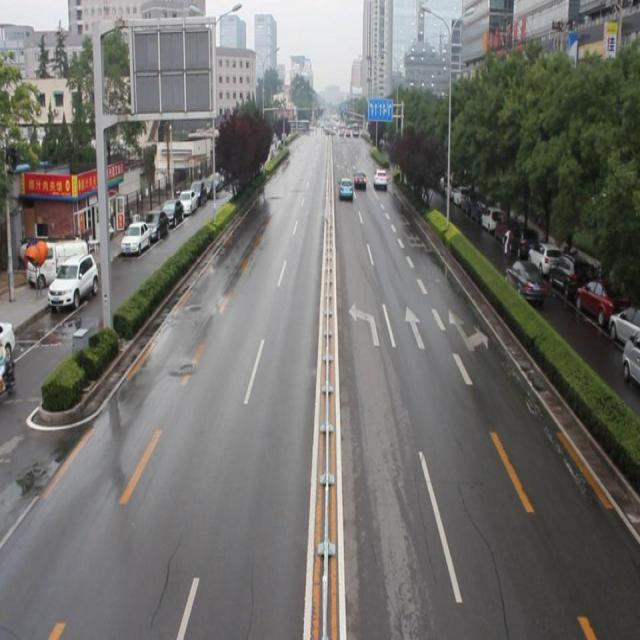car: (337, 177, 353, 199), (372, 168, 387, 186), (353, 171, 365, 188)
